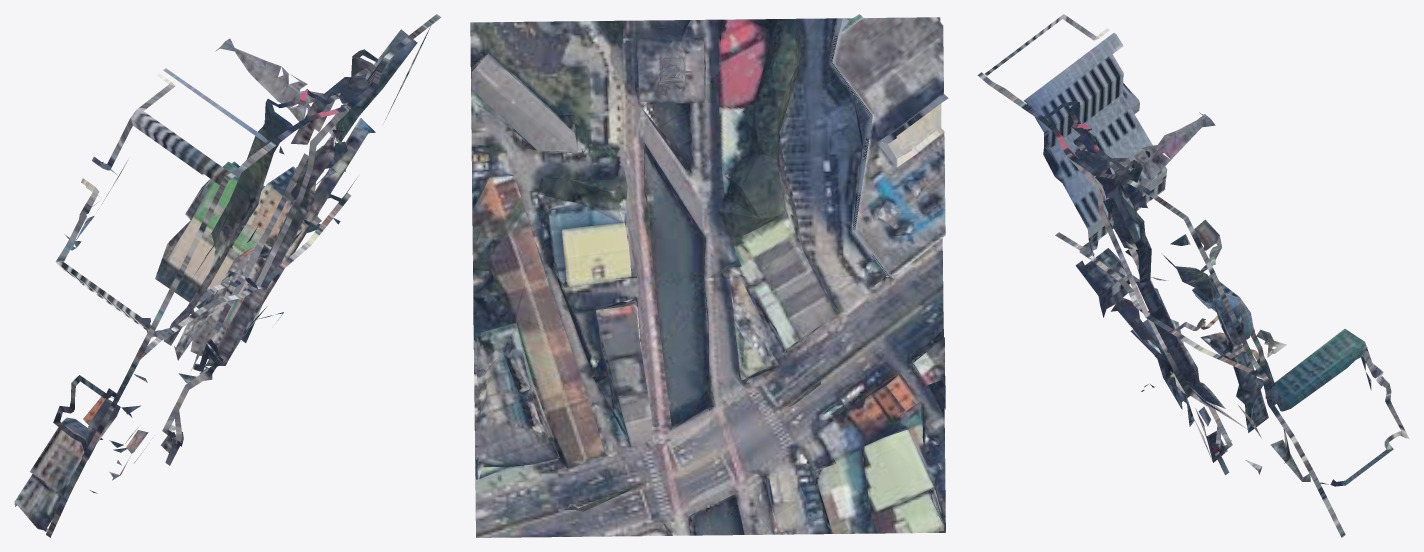
The picture shows the model from 3 angles, left to right: view 1: azimuth 30°, elevation 25°; view 2: azimuth 150°, elevation 25°; view 3: azimuth 270°, elevation 25°; orthographic projection. The views are drawn at different scales.
Size of the model in its own units: 158 by 160 by 150.
2 materials, 2 textured.
